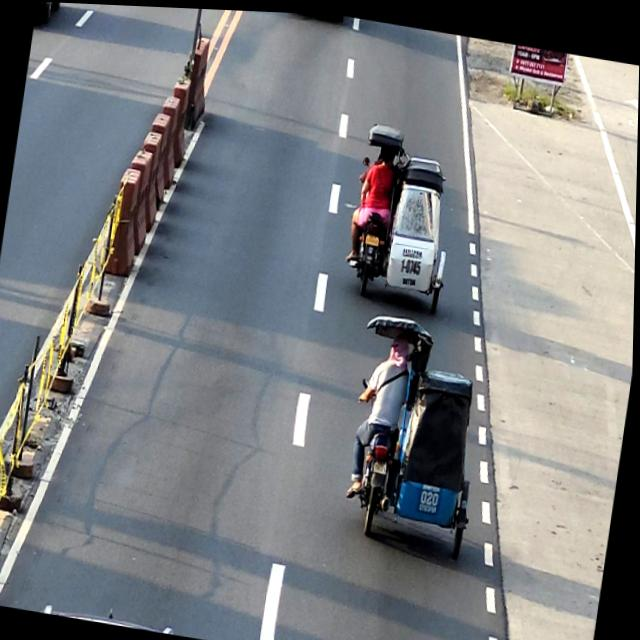License-Plate: (372, 456, 390, 472), (366, 229, 381, 242)
Tricycle: (339, 307, 497, 557), (344, 119, 465, 311)
